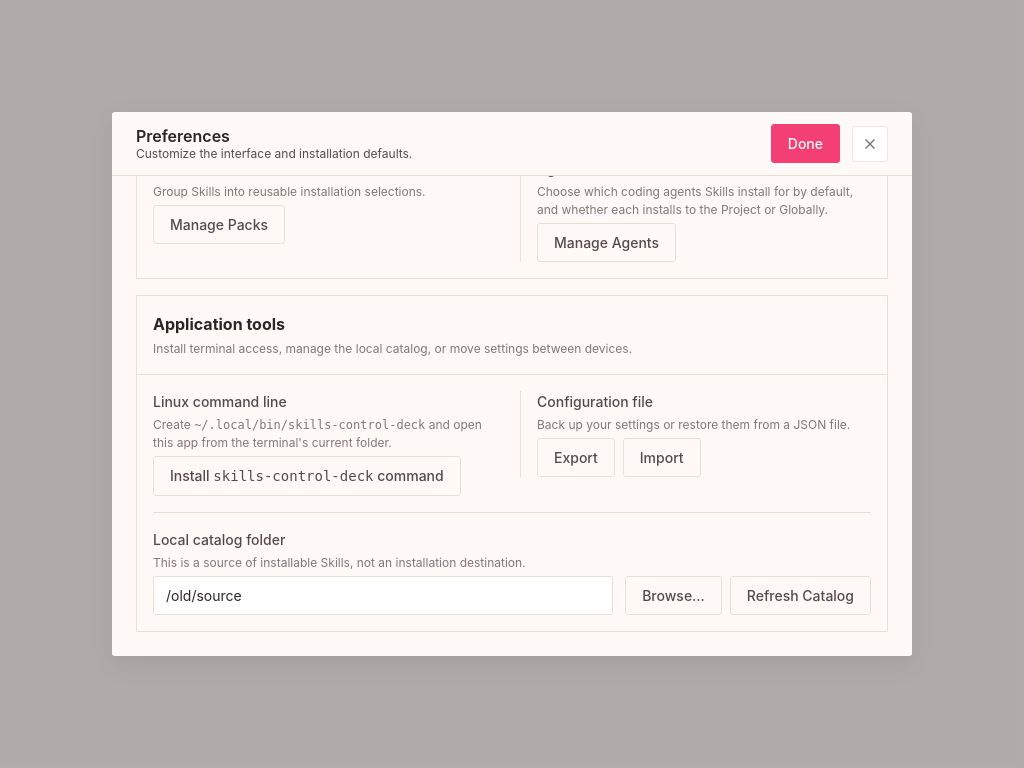
Test: PreferencesDialog › picks a folder from the native dialog and saves it immediately, no confirmation step
(page scrolled)
Click the button "Browse…" at x=674, y=595, box [625,576,722,615]
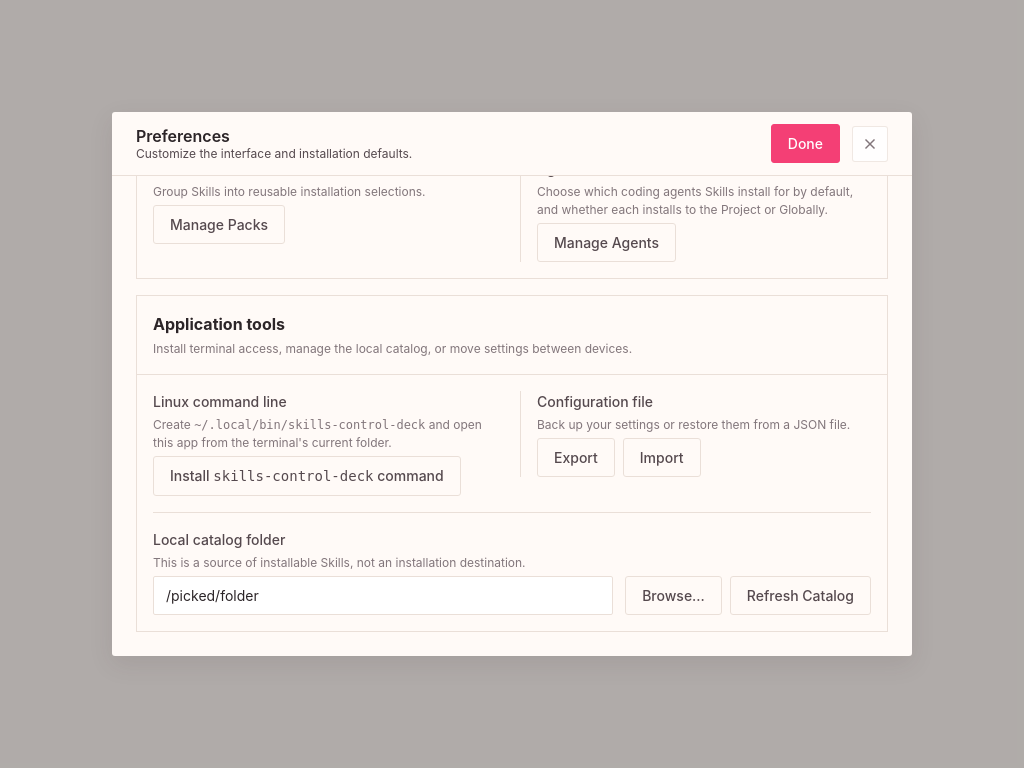
Now the field with id "local-skill-source" holds "/picked/folder", box [153,576,613,615]
